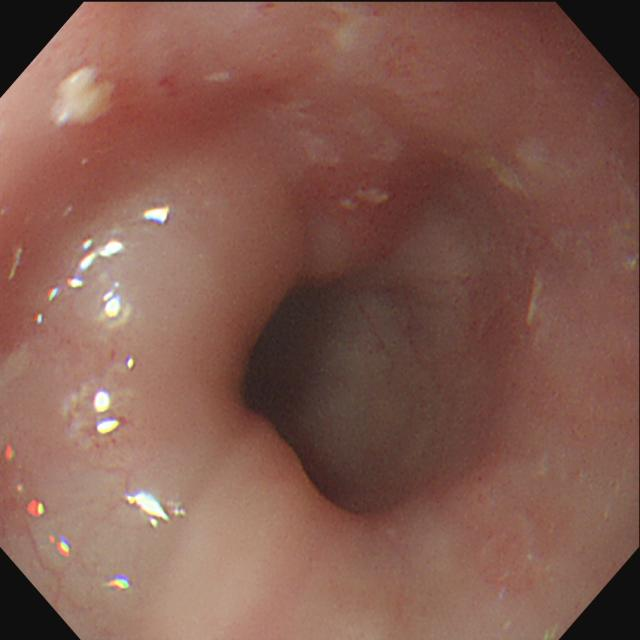E: (242, 285, 392, 520)
J: (52, 70, 119, 130)
U: (67, 235, 125, 293), (121, 488, 187, 532), (93, 388, 126, 439), (97, 282, 132, 324), (35, 286, 61, 327), (143, 205, 174, 229), (50, 534, 71, 557), (108, 576, 132, 594)
